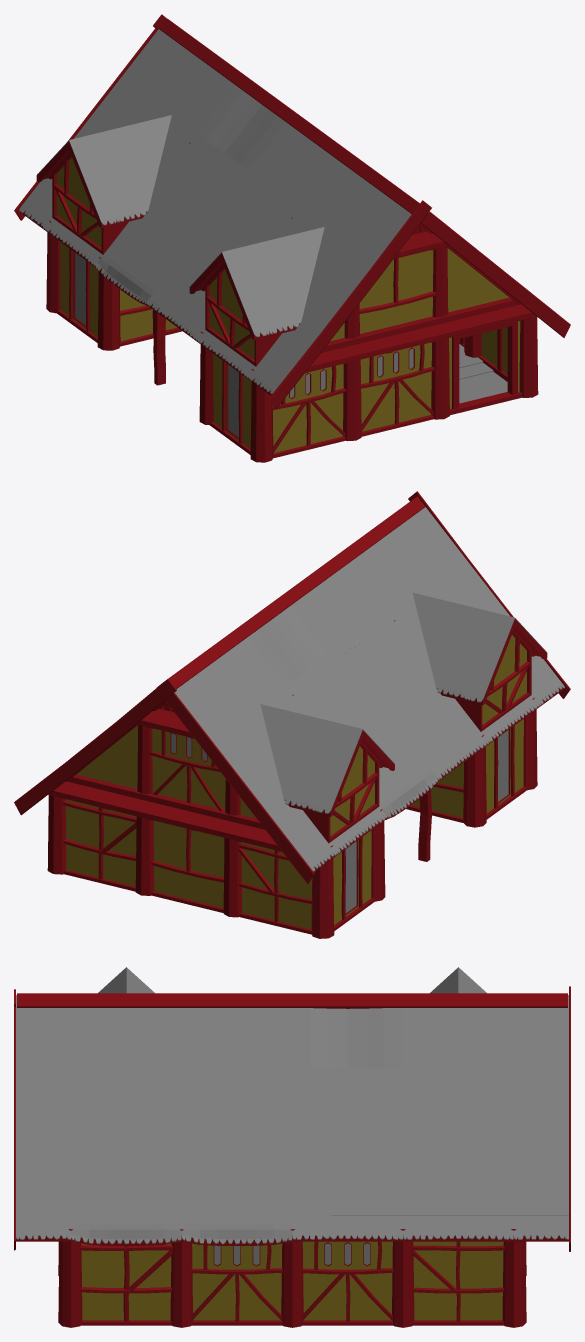
Rendered from SM_MH_01_House_05.fbx.
The picture shows the model from 3 angles, top to bottom: view 1: azimuth 30°, elevation 25°; view 2: azimuth 150°, elevation 25°; view 3: azimuth 270°, elevation 25°; orthographic projection. The views are drawn at different scales.
Parts seen in each view (by area): view 1: SM_MH_01_House_05_LOD0, SM_MH_01_House_05_Windows; view 2: SM_MH_01_House_05_LOD0, SM_MH_01_House_05_Windows; view 3: SM_MH_01_House_05_LOD0, SM_MH_01_House_05_Windows.
Part boxes in pixels (x1,y1,x2,y2): SM_MH_01_House_05_LOD0: (14,14,570,462); SM_MH_01_House_05_Windows: (75,253,413,436); SM_MH_01_House_05_LOD0: (14,491,570,938); SM_MH_01_House_05_Windows: (171,730,508,912); SM_MH_01_House_05_LOD0: (14,967,570,1327); SM_MH_01_House_05_Windows: (214,1243,370,1265).
Size of what is drawn, in the model's own units: 1031 by 791 by 1510.
